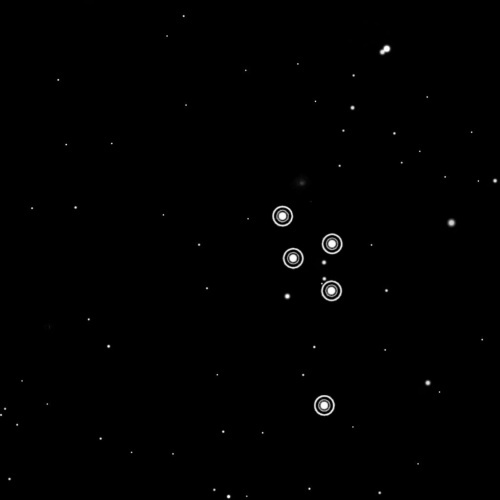delphinus: (266, 199, 345, 418)
